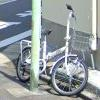bicycles: (16, 4, 89, 97)
